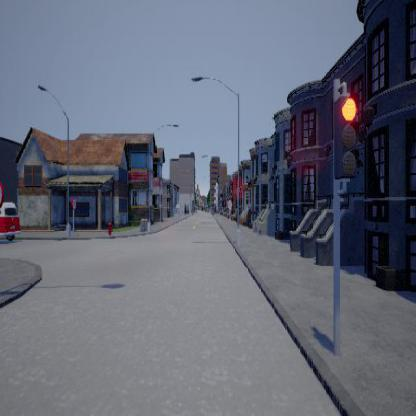traffic_light_red: (333, 81, 359, 195)
vehicle: (0, 201, 20, 240)
